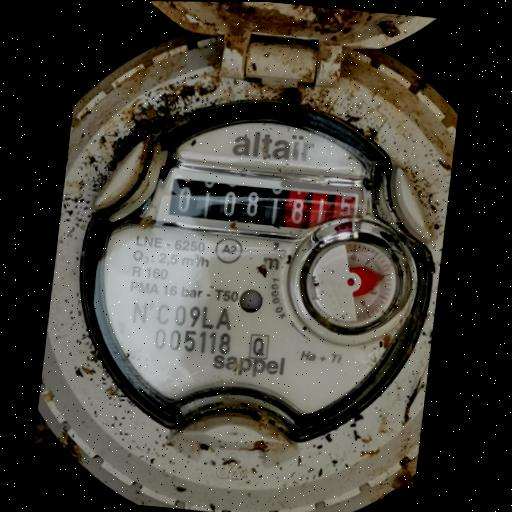0: (215, 184, 244, 222), (169, 178, 197, 217)
1: (308, 193, 337, 232), (193, 181, 221, 220), (261, 188, 289, 226)
5: (333, 195, 356, 222)
8: (238, 187, 267, 225), (284, 191, 312, 229)
border_water_meter_number: (161, 169, 366, 243)
